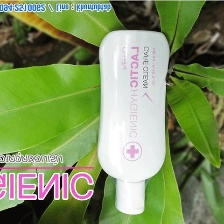cleaning_solution: (95, 26, 171, 217)
